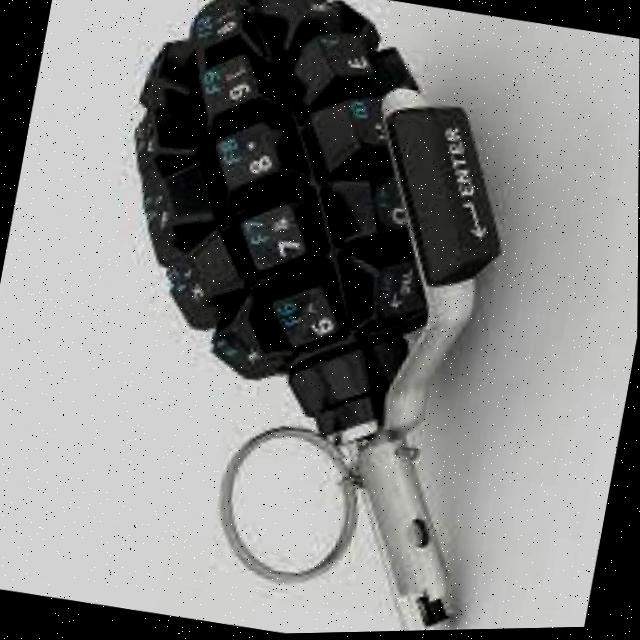grenade: (33, 0, 568, 639)
